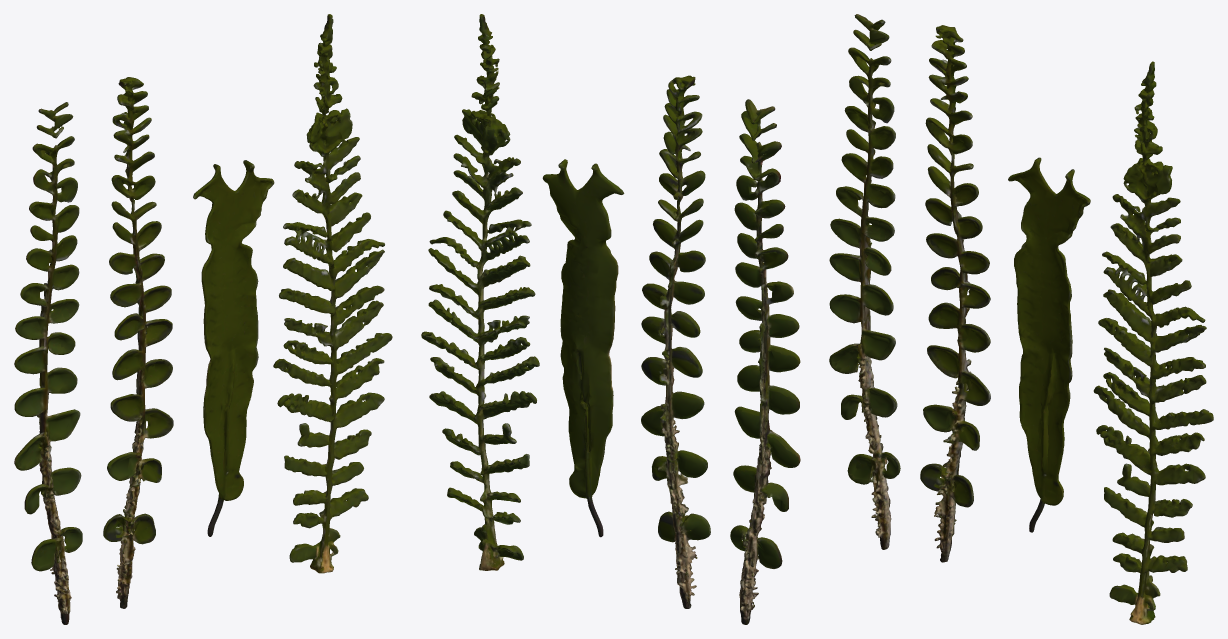
Rendered from fern-frond-v6.glb.
The picture shows the model from 3 angles, left to right: view 1: azimuth 30°, elevation 25°; view 2: azimuth 150°, elevation 25°; view 3: azimuth 330°, elevation 25°; orthographic projection.
Parts seen in each view (by area): view 1: geometry_0; view 2: geometry_0; view 3: geometry_0.
Part boxes in pixels (x1,y1,x2,y2): geometry_0: (14,14,392,624); geometry_0: (421,14,800,624); geometry_0: (829,14,1213,624).
Bounding box in the file's own units: 0.35 × 0.4882 × 0.0222.
1 material, 1 textured.
